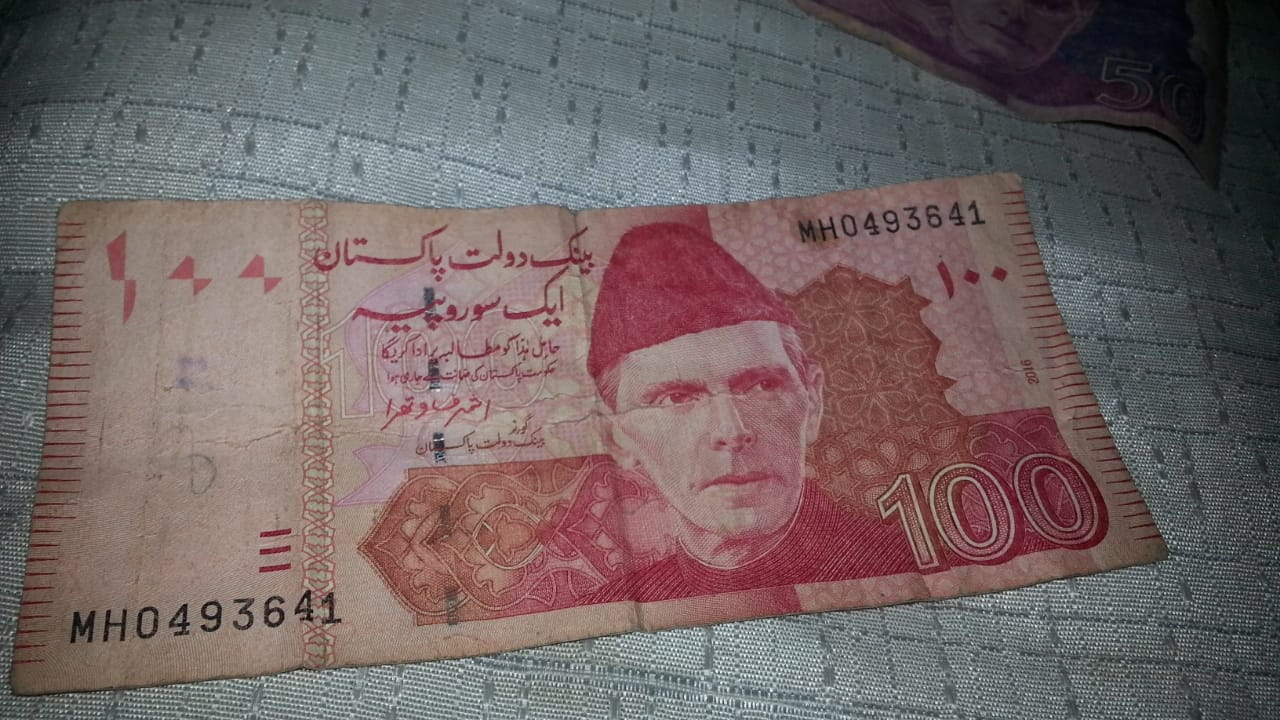100 rupee: (21, 145, 1155, 698)
